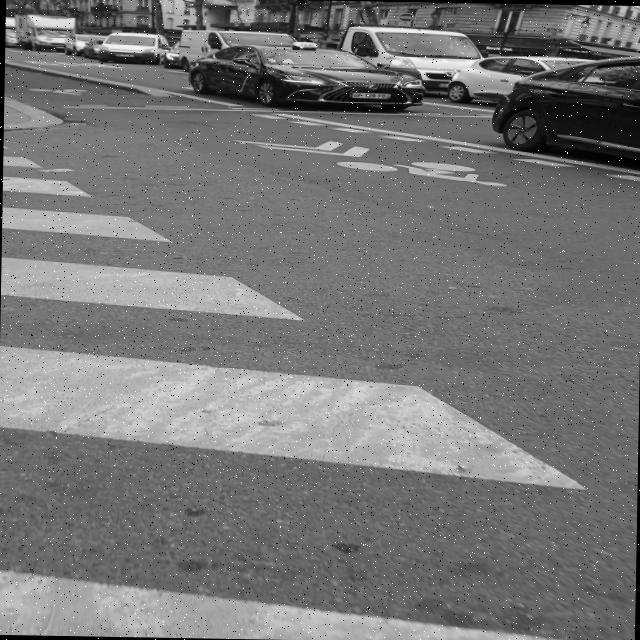EU: (348, 92, 392, 99)
France: (349, 91, 353, 98)
